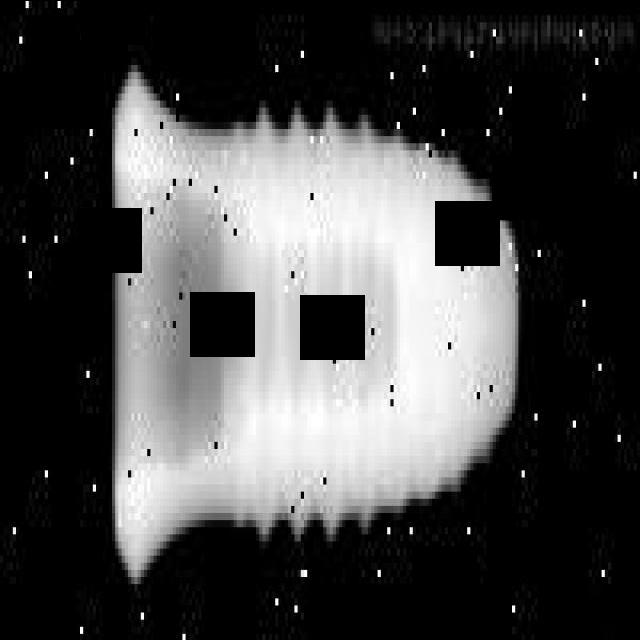Titan Implant Implant: (112, 64, 522, 583)
